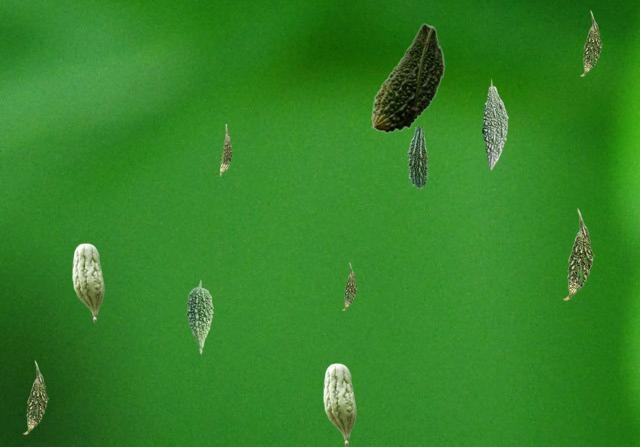ampalaya: (371, 23, 444, 132), (563, 208, 593, 299), (323, 363, 355, 445), (72, 243, 103, 321), (482, 78, 507, 169), (186, 280, 212, 353), (23, 360, 47, 433), (580, 10, 601, 75), (407, 127, 427, 187), (342, 262, 356, 309), (220, 124, 231, 175)
